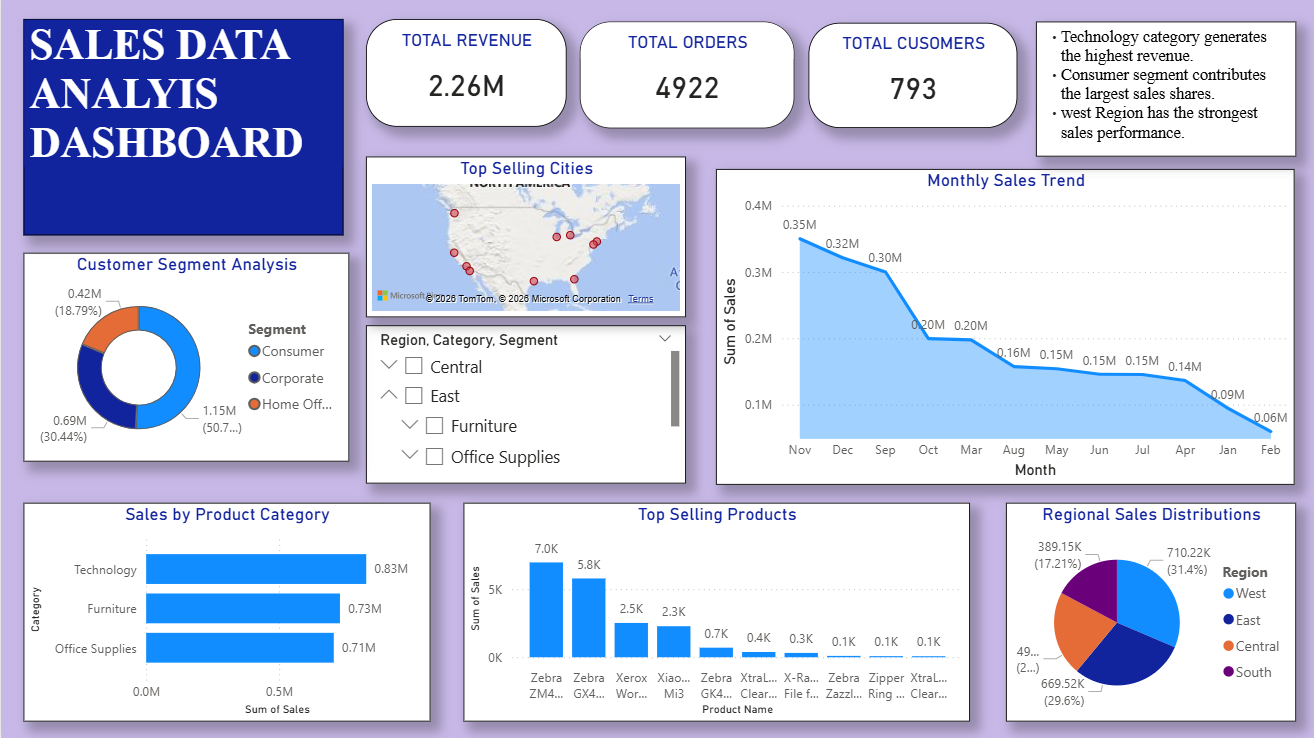

What the dashboard file says about the page in this screenshot:
{"tool":"powerbi","page":{"name":"Page 1","canvas":[1280,720],"ordinal":0},"visuals":[{"type":"card","title":"           TOTAL REVENUE","fields":{"Values":["Sum(train.Sales)"]},"box":[352.7,24.7,193.5,104.3],"z":0},{"type":"card","title":"TOTAL ORDERS","fields":{"Values":["train.Total Orders"]},"box":[558.5,26.1,207.2,102.9],"z":1000},{"type":"card","title":"TOTAL CUSOMERS","fields":{"Values":["train.Total Customers"]},"box":[779.4,27.4,201.7,101.5],"z":2000},{"type":"lineChart","title":"Monthly Sales Trend","fields":{"Category":["train.Month"],"Y":["Sum(train.Sales)"]},"box":[690.2,168.8,558.5,304.6],"z":3000},{"type":"columnChart","title":"Top Selling Products ","fields":{"Category":["train.Product Name"],"Y":["Sum(train.Sales)"]},"box":[446,491.3,488.5,211.3],"z":4000},{"type":"barChart","title":" Sales by Product  Category","fields":{"Category":["train.Category"],"Y":["Sum(train.Sales)"]},"box":[22,491.3,392.5,211.3],"z":5000},{"type":"pieChart","title":"Regional Sales Distributions","fields":{"Category":["train.Region"],"Y":["Sum(train.Sales)"]},"box":[970.2,491.3,279.9,211.3],"z":6000},{"type":"slicer","fields":{"Values":["train.Region","train.Category","train.Segment"]},"box":[352.9,320,308.6,152.9],"z":7000},{"type":"donutChart","title":"Customer Segment Analysis","fields":{"Category":["train.Segment"],"Y":["Sum(train.Sales)"]},"box":[22,249.7,314.2,201.7],"z":8000},{"type":"textbox","title":"        SALES        DATA      ANALYIS                   DASHBOARD","box":[22,24.7,308.7,208.6],"z":9000},{"type":"textbox","box":[999,26.1,251.1,130.4],"z":9002},{"type":"map","title":"Top Selling Cities","fields":{"Category":["train.City"]},"box":[352.7,156.4,308.7,155.1],"z":9003}]}

Visuals, with their boxes in screenshot pixels (x1, y1, x2, y2), scaled from the page's 1280x720 canvas onto the 1314x738 screenshot:
"           TOTAL REVENUE" card: 362,25,561,132
"TOTAL ORDERS" card: 573,27,786,132
"TOTAL CUSOMERS" card: 800,28,1007,132
"Monthly Sales Trend" lineChart: 709,173,1282,485
"Top Selling Products " columnChart: 458,504,959,720
" Sales by Product  Category" barChart: 23,504,426,720
"Regional Sales Distributions" pieChart: 996,504,1283,720
slicer - train.Region x train.Category: 362,328,679,485
"Customer Segment Analysis" donutChart: 23,256,345,463
"        SALES        DATA      ANALYIS                   DASHBOARD" textbox: 23,25,339,239
textbox: 1026,27,1283,160
"Top Selling Cities" map: 362,160,679,319
